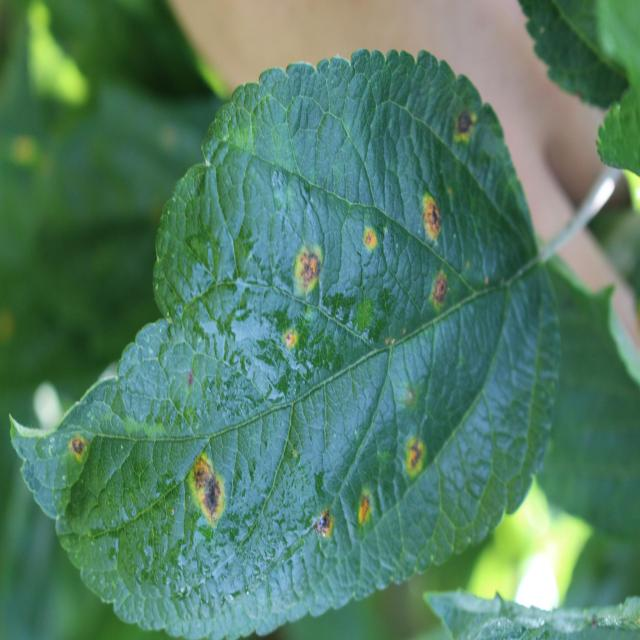Rust: (184, 442, 236, 534), (386, 425, 438, 479), (418, 183, 453, 263), (424, 262, 455, 338), (434, 95, 480, 145), (295, 232, 332, 294), (354, 212, 386, 278), (348, 478, 380, 536), (303, 499, 339, 549), (65, 422, 94, 480), (277, 316, 305, 363)
